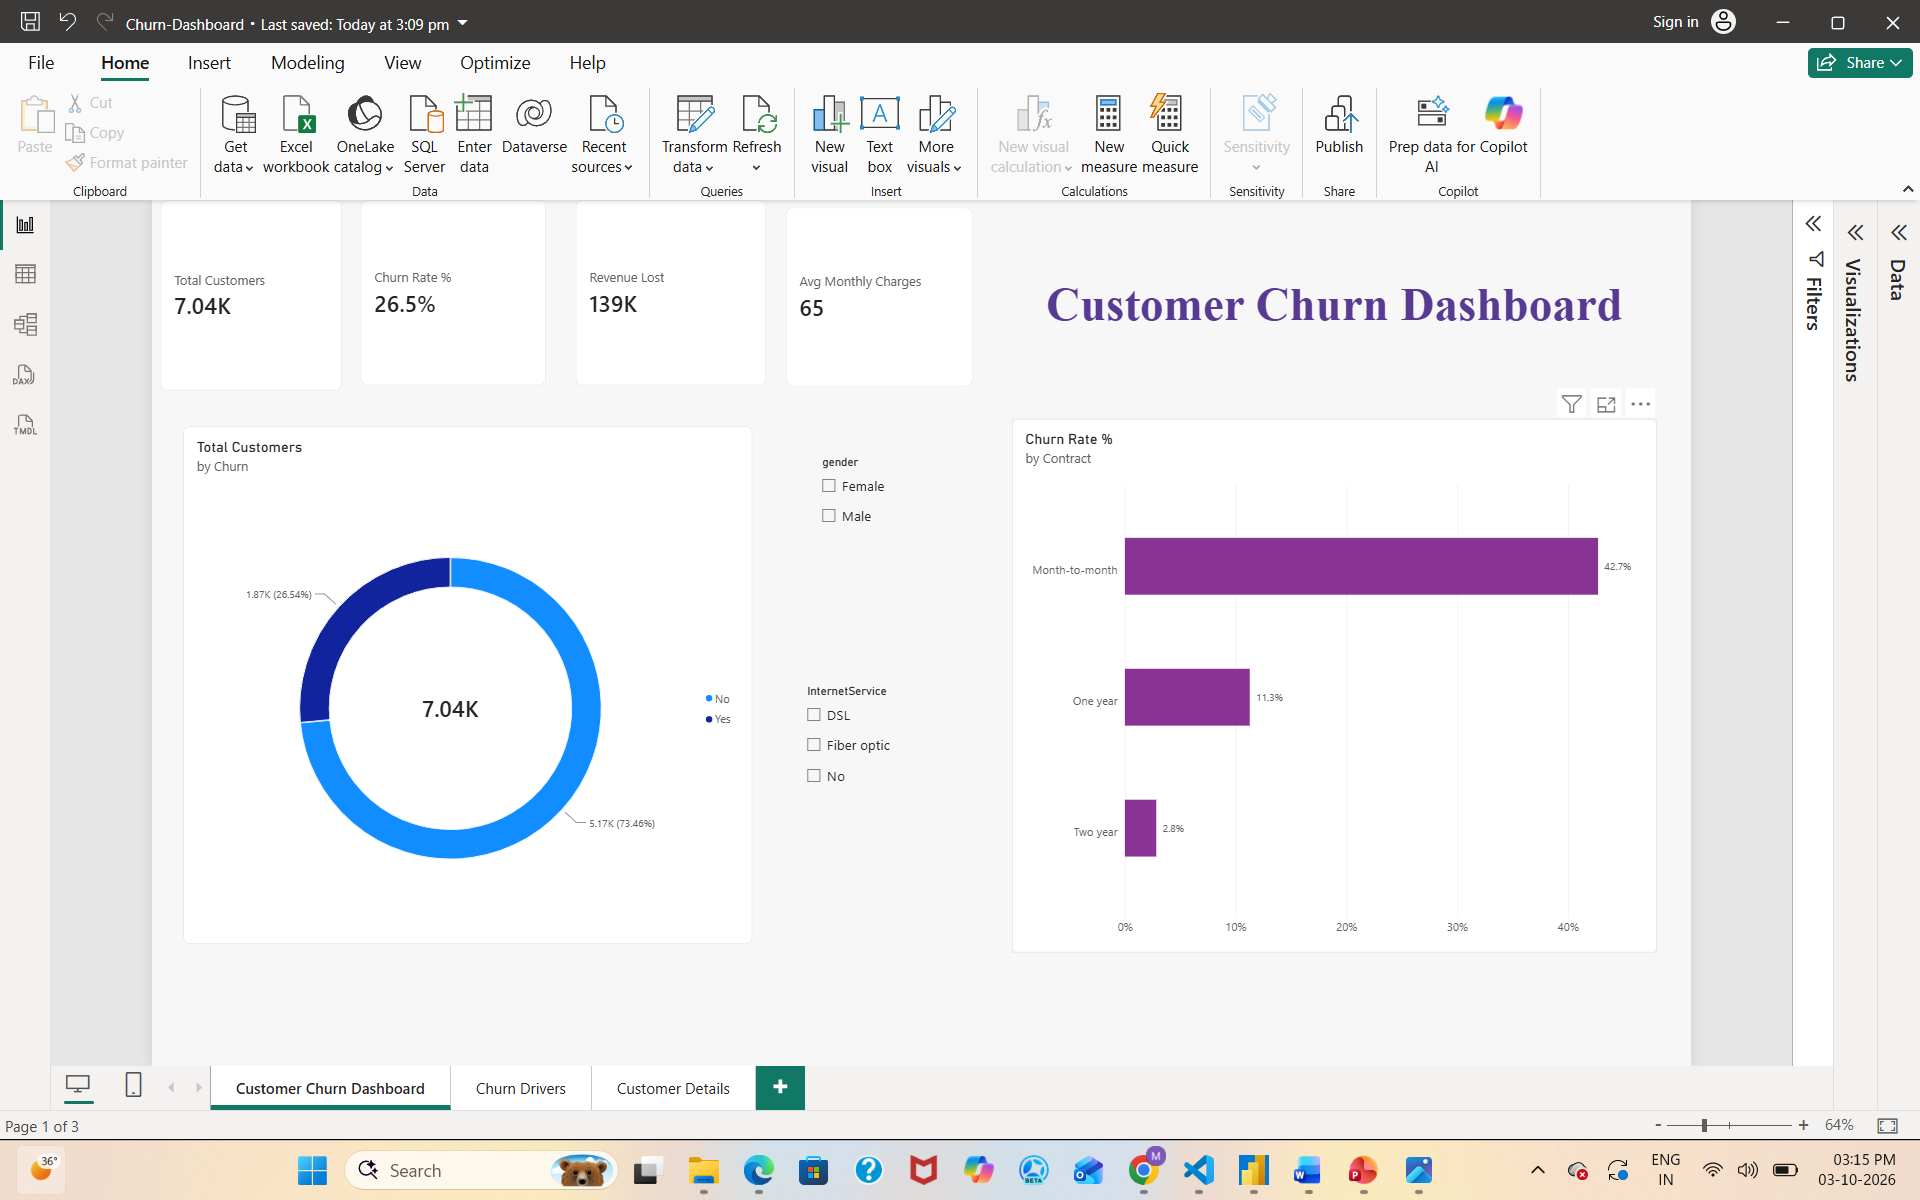

Layout of this report page (visuals, bound fields, positions):
{"tool":"powerbi","page":{"name":"Customer Churn Dashboard","canvas":[1920,1080],"ordinal":0},"visuals":[{"type":"cardVisual","fields":{"Data":["Telco.Total Customers"]},"box":[10.5,0,226.7,239],"z":0},{"type":"cardVisual","fields":{"Data":["Telco.Churn Rate %"]},"box":[259.9,0,232,232],"z":1000},{"type":"cardVisual","fields":{"Data":["Telco.Revenue Lost"]},"box":[528.5,0,237.2,232],"z":2000},{"type":"cardVisual","fields":{"Data":["Telco.Avg Monthly Charges"]},"box":[790.1,8.7,233.7,223.3],"z":3000},{"type":"donutChart","fields":{"Category":["Telco.Churn"],"Y":["Telco.Total Customers"]},"box":[38.4,282.6,709.9,645.4],"z":4000},{"type":"clusteredBarChart","fields":{"Category":["Dim_Contract.Contract"],"Y":["Telco.Churn Rate %"]},"box":[1072.7,272.1,804.1,666.3],"z":5000},{"type":"slicer","fields":{"Values":["Telco.gender"]},"box":[828.5,317.4,195.3,223.3],"z":6000},{"type":"slicer","fields":{"Values":["Dim_InternetService.InternetService"]},"box":[809.3,603.5,214.5,202.3],"z":7000},{"type":"textbox","box":[1072.7,95.9,804.1,136],"z":8000}]}

Visuals, with their boxes on the page's 1920x1080 design canvas (x1, y1, x2, y2). These are canvas units, not pixel positions in the 1920x1200 screenshot, which may show the page scaled, cropped or inside an application window:
cardVisual - Telco.Total Customers: {"x1": 10, "y1": 0, "x2": 237, "y2": 239}
cardVisual - Telco.Churn Rate %: {"x1": 260, "y1": 0, "x2": 492, "y2": 232}
cardVisual - Telco.Revenue Lost: {"x1": 528, "y1": 0, "x2": 766, "y2": 232}
cardVisual - Telco.Avg Monthly Charges: {"x1": 790, "y1": 9, "x2": 1024, "y2": 232}
donutChart - Telco.Churn x Telco.Total Customers: {"x1": 38, "y1": 283, "x2": 748, "y2": 928}
clusteredBarChart - Dim_Contract.Contract x Telco.Churn Rate %: {"x1": 1073, "y1": 272, "x2": 1877, "y2": 938}
slicer - Telco.gender: {"x1": 828, "y1": 317, "x2": 1024, "y2": 541}
slicer - Dim_InternetService.InternetService: {"x1": 809, "y1": 604, "x2": 1024, "y2": 806}
textbox: {"x1": 1073, "y1": 96, "x2": 1877, "y2": 232}
